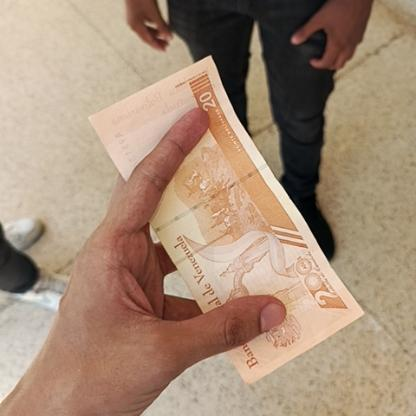twenty-back-vef: (83, 57, 369, 390)
